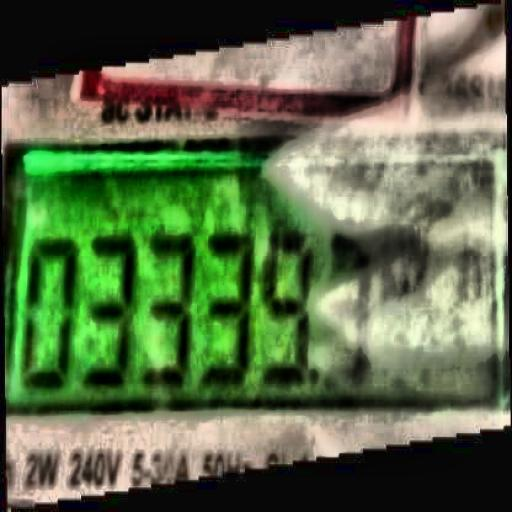DISPLAY_REGION: (5, 132, 508, 415)
SERIAL_REGION: (20, 230, 438, 389)
